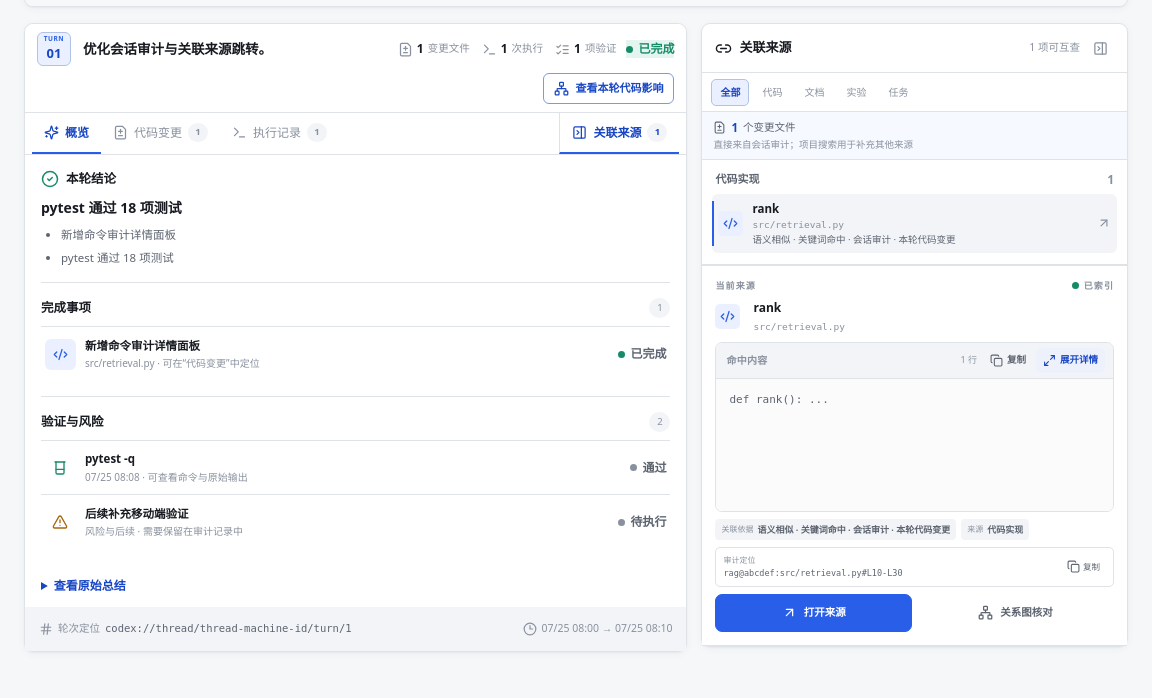
Test: SessionDetail audit workspace › supports direct turn navigation, detail tabs, and a collapsible source rail
(page scrolled)
Expected: the text "命中内容" is shown, [726,353,768,368]
Expected: the text "关联依据" is shown, [722,523,754,535]
Click the button "展开详情". click: (1070, 360)
box: [1036,348,1105,373]
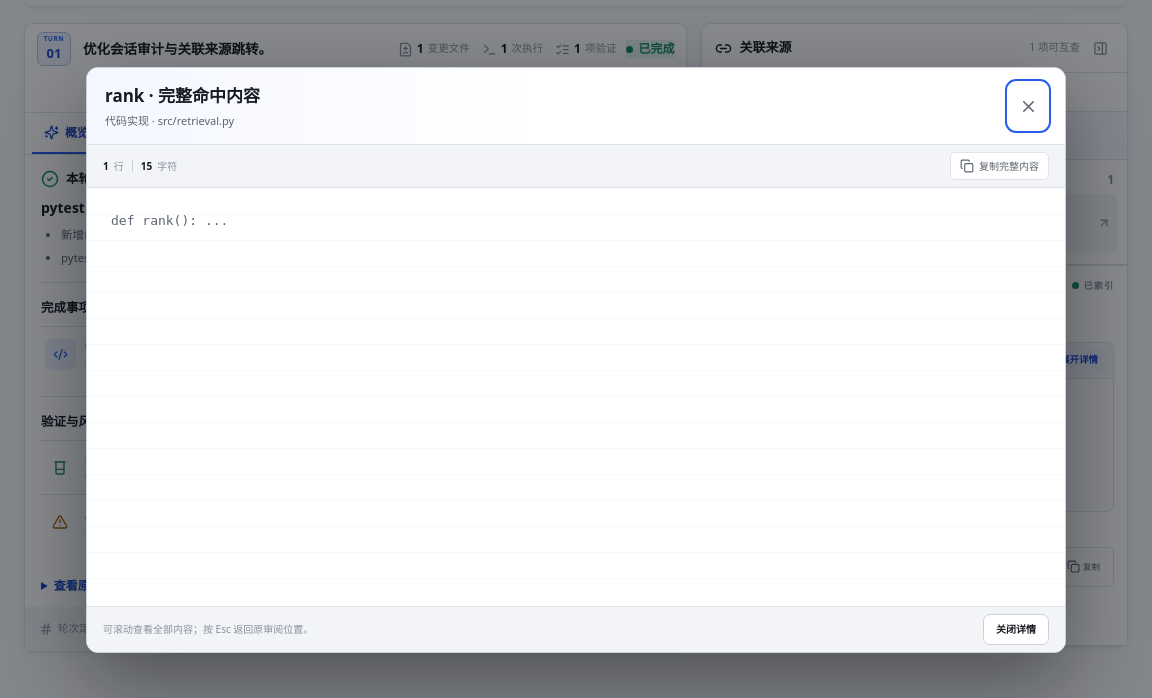
Result: the dialog "完整命中内容" shows "def rank(): ..." at [111,213,228,228]
Click the button "关闭详情". click: (1016, 629)
box: [983,614,1049,645]
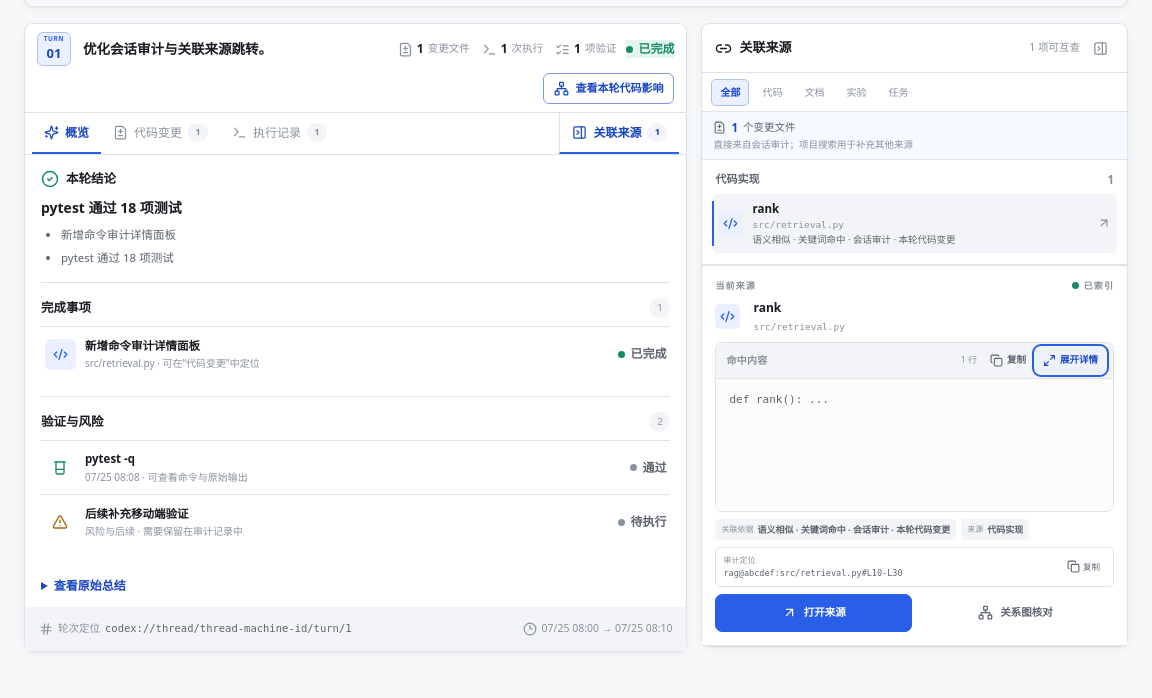
Click the tab "代码变更 1". click: (160, 134)
box: [101,113,220,154]
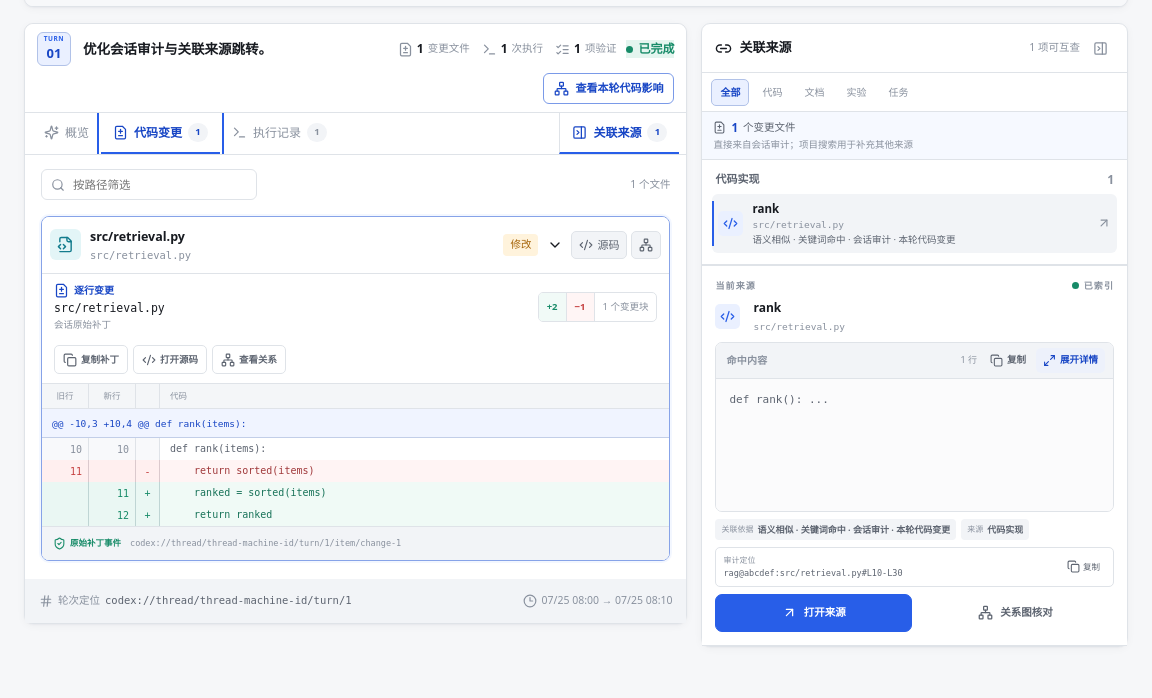
Result: the search field named "搜索变更文件" is shown at [71,175,247,194]
Result: the element named "代码变更明细：src/retrieval.py" is shown at [42,273,670,560]
Result: the text "return sorted(items)" is shown at [170,465,314,476]
Click the button named "收起关联来源". click: (1100, 48)
box: [1087,34,1114,62]
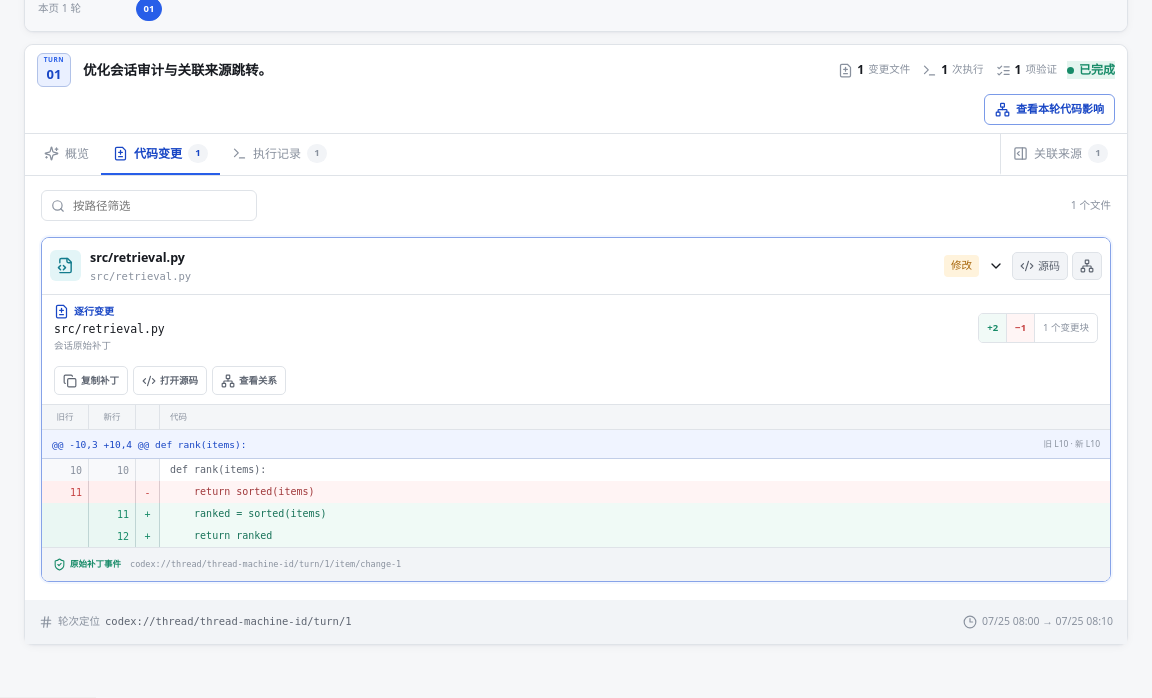
Result: the field labelled "来源互查详情" is gone
Result: the button "关联来源 1" is collapsed at [1000,134,1120,175]
